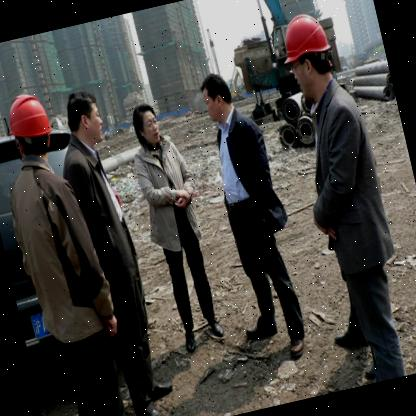capacete: (272, 7, 344, 103), (0, 86, 61, 165)
sem_capacete: (60, 83, 110, 154), (196, 68, 239, 127), (126, 98, 166, 151)
sem_colete_refletivo: (0, 137, 125, 354), (283, 73, 403, 287), (54, 128, 144, 294), (202, 107, 290, 244), (126, 131, 209, 253)
